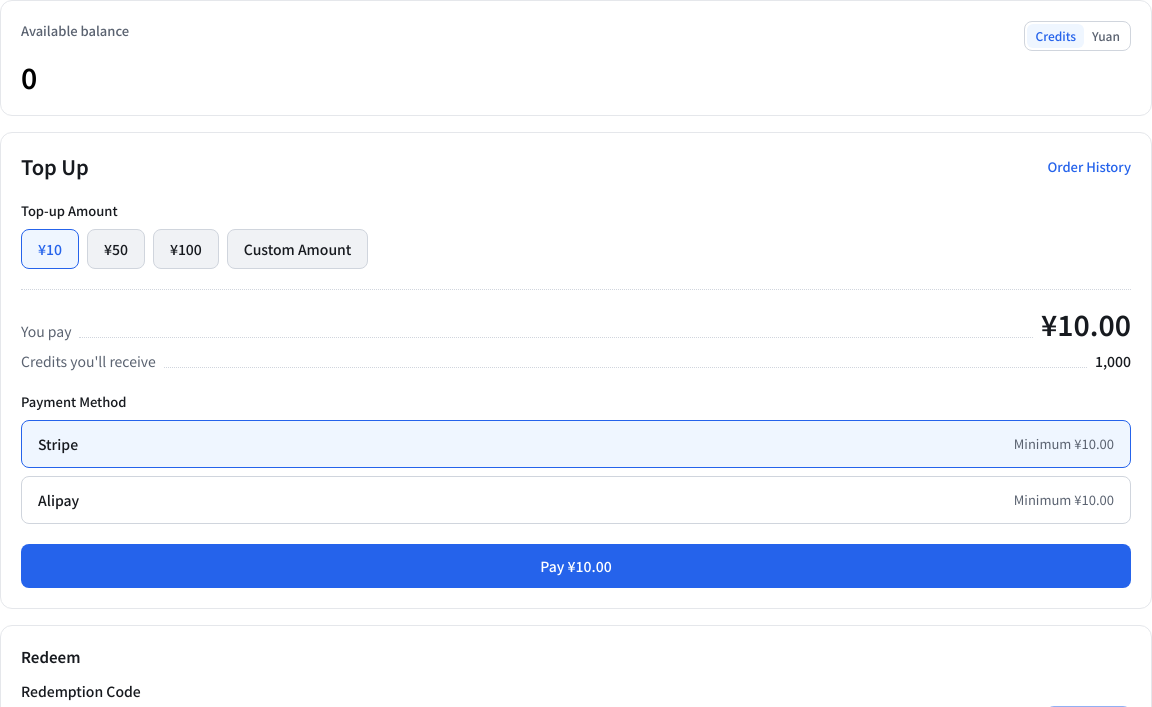
it: TopupPage › renders a payload-less idempotent replay from the fetched order status
Click the radio button labelled "Alipay". click: (59, 500)
box: [21, 476, 1131, 524]
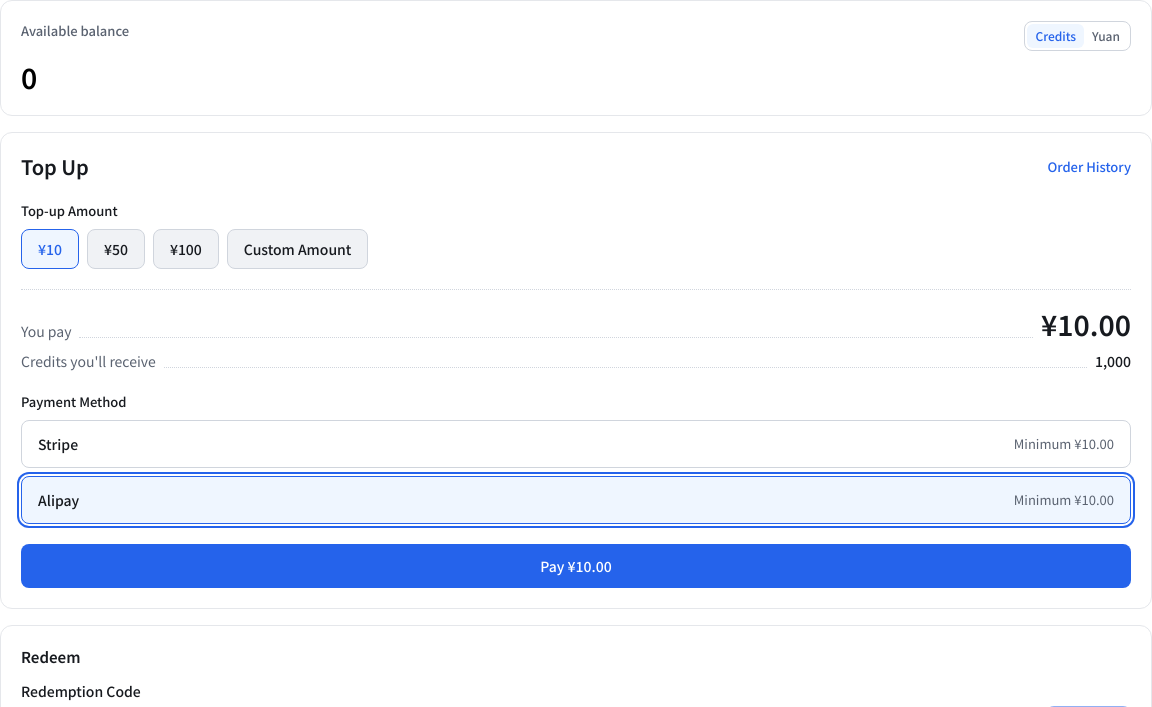
Click the button "Pay ¥10.00". click: (576, 566)
box: [21, 544, 1131, 588]
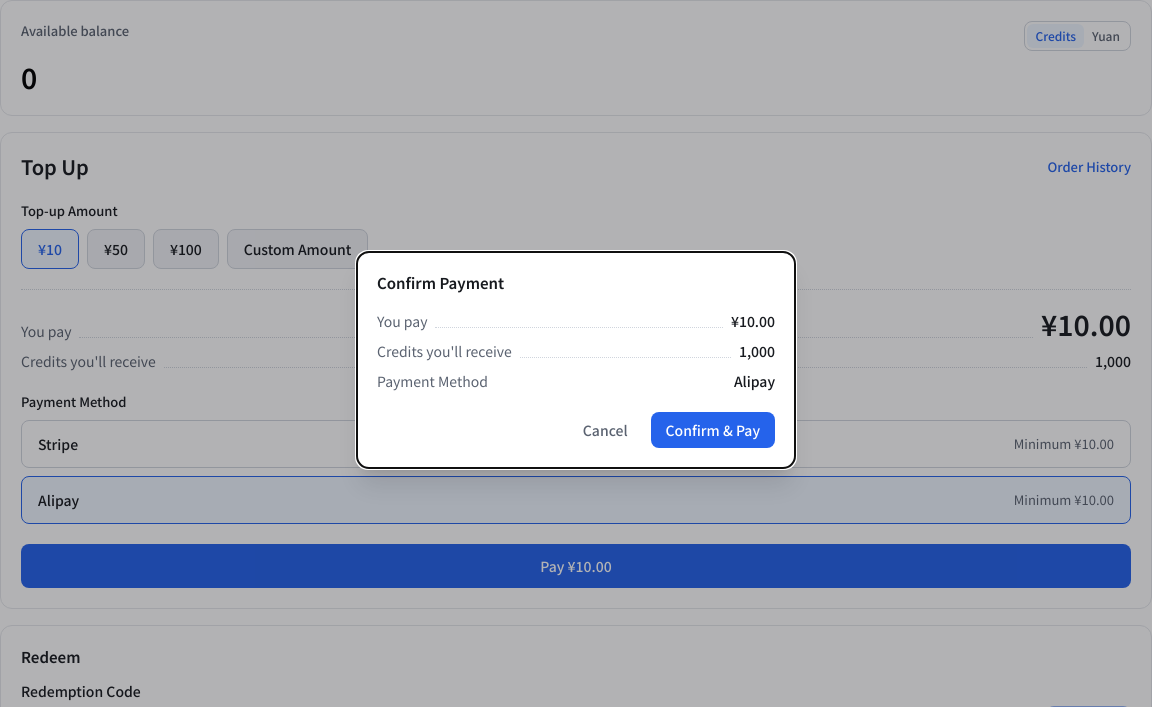
Click the button "Confirm & Pay". click: (713, 430)
box: [651, 412, 775, 448]
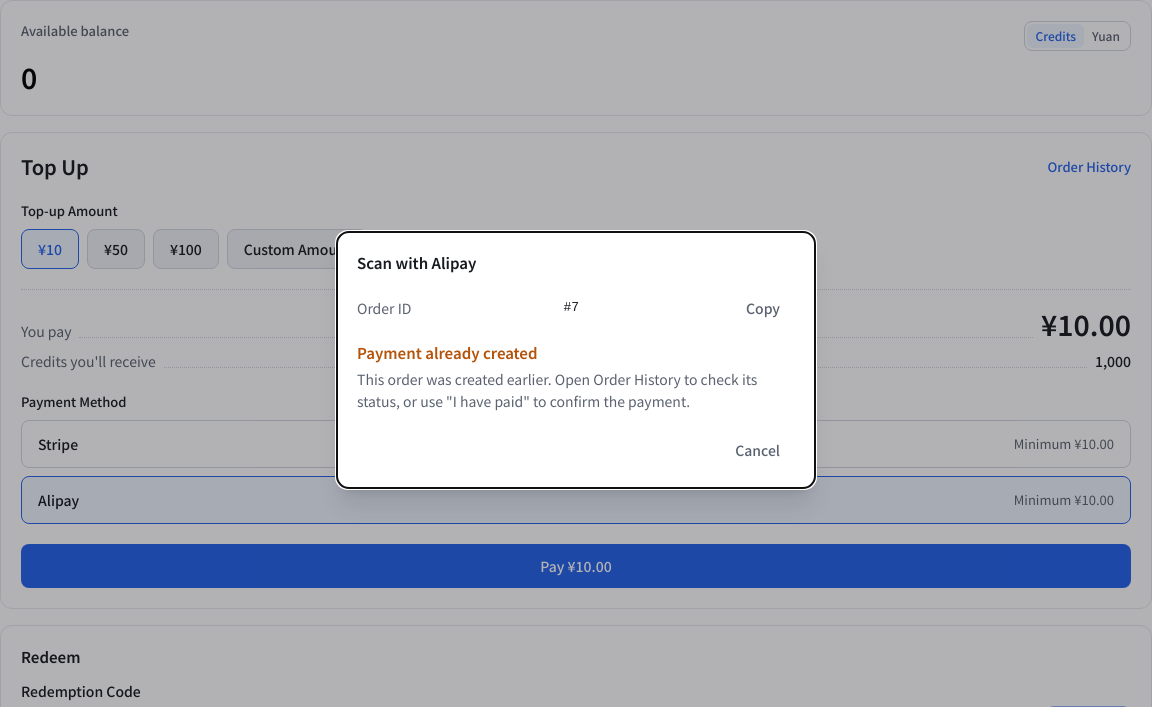
Check: the text "Payment already created" is shown, box [357, 342, 538, 363]
Check: the text "Open Order History to check its status" is shown, box [357, 369, 757, 411]
